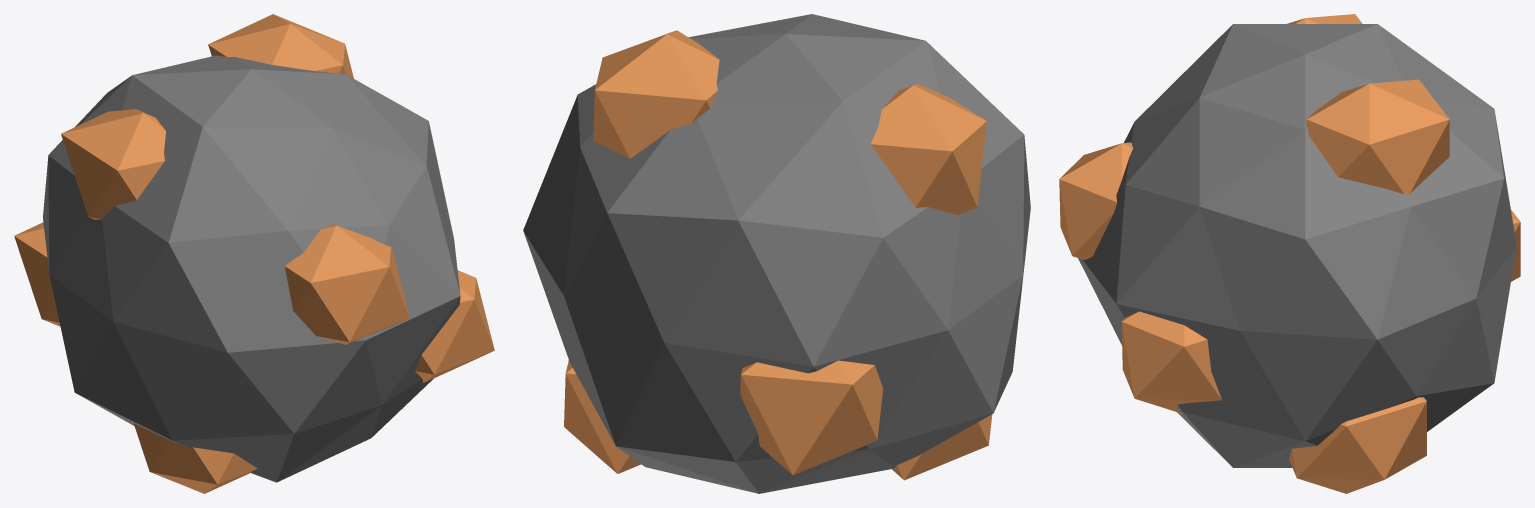
File: IronOreRock.fbx
3 views of the same model, side by side, from view 1: azimuth 30°, elevation 25°; view 2: azimuth 150°, elevation 25°; view 3: azimuth 270°, elevation 25° (orthographic). The views are drawn at different scales.
Visible parts, largest first — view 1: Ore Rock; view 2: Ore Rock; view 3: Ore Rock.
Boxes of the visible parts, x1=… form: Ore Rock: x1=14, y1=14, x2=494, y2=493; Ore Rock: x1=523, y1=14, x2=1030, y2=493; Ore Rock: x1=1059, y1=14, x2=1520, y2=493.
Bounding box in the file's own units: 388 × 389 × 415.
